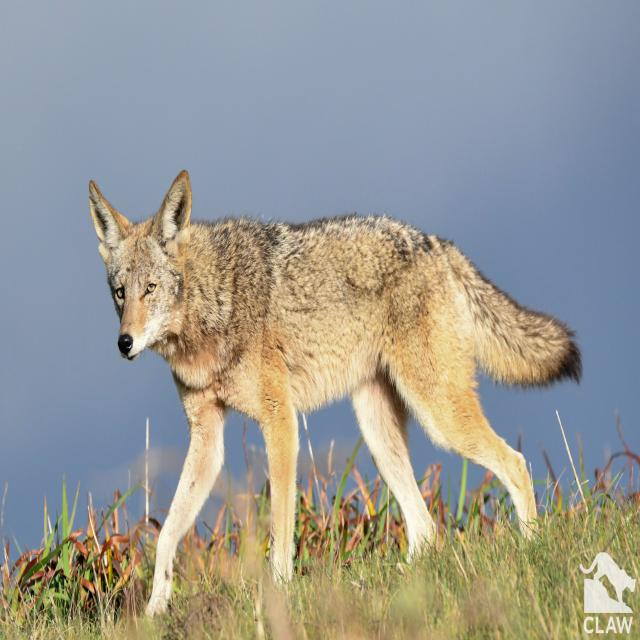coyote: (89, 170, 582, 616)
